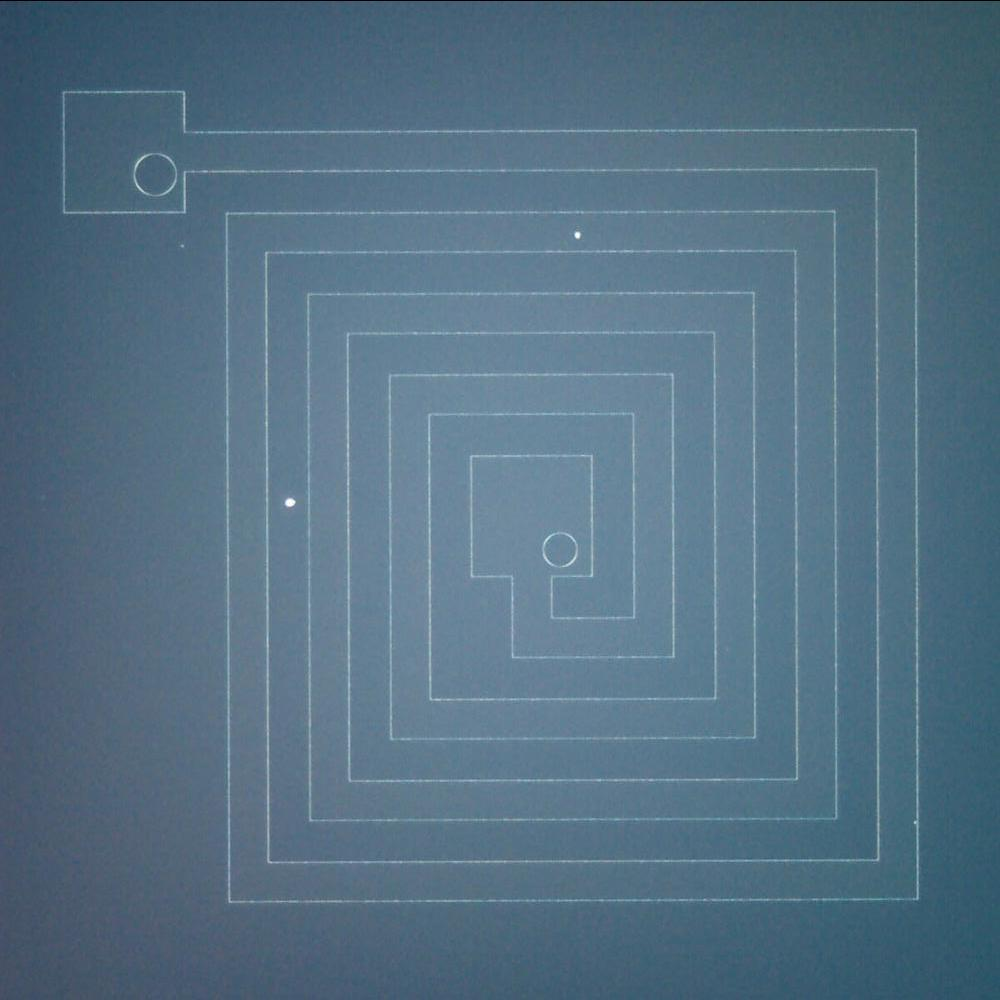circle: (128, 151, 174, 199), (536, 527, 582, 572)
dot: (563, 215, 594, 246)
spot: (278, 489, 305, 514)
